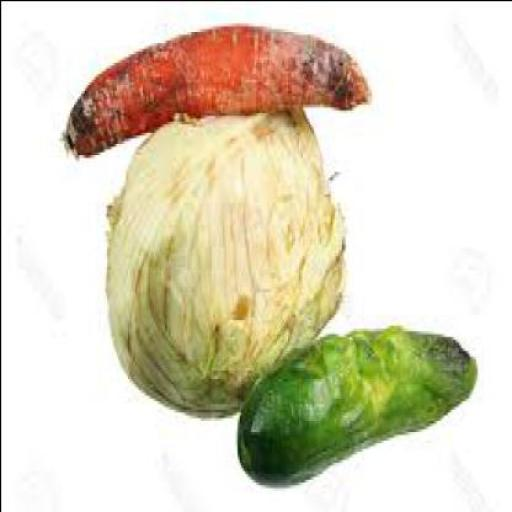biodegradable: (106, 103, 344, 420), (60, 20, 376, 151), (236, 324, 480, 487)
